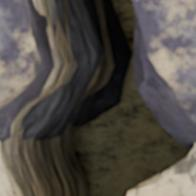broken_brick: (134, 0, 195, 139), (0, 0, 42, 138)
crack: (0, 0, 195, 195)
